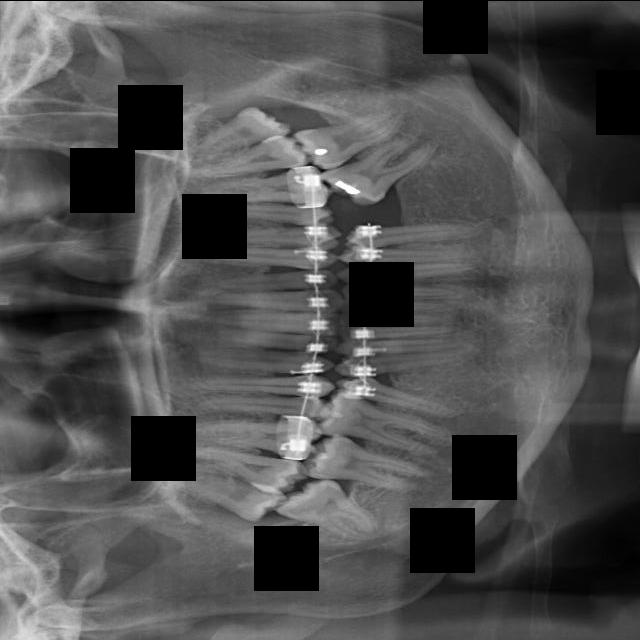3M ESPE Implant: (155, 456, 288, 530)
AGS Medikal Implant: (319, 120, 451, 220)
Amalgam filling: (173, 441, 310, 498)
Anthogyr Implant: (343, 216, 478, 248)
Bicon Implant: (340, 246, 471, 266)
BioHorizons Implant: (337, 259, 481, 284)
BioLife Implant: (339, 283, 460, 298)
Biomet 3i Implant: (341, 299, 459, 313)
Blue Sky Bio Implant: (345, 312, 453, 324)
Camlog Implant: (338, 324, 459, 340)
Caries: (214, 268, 339, 293)
Composite filling: (335, 336, 469, 356)
Cowellmedi Implant: (333, 344, 476, 379)
Crown: (332, 369, 463, 421)
DENTSPLY Implant: (311, 443, 312, 444)
Dentatus Implant: (313, 386, 454, 478)
Dentis Implant: (301, 431, 440, 496)
Dentium Implant: (273, 465, 389, 546)
Euroteknika Implant: (185, 387, 326, 423)
Filling: (185, 367, 334, 397)
Frontier Implant: (178, 342, 338, 377)
Hiossen Implant: (191, 244, 339, 269)
Implant: (212, 308, 343, 336)
Implant Direct: (213, 325, 338, 355)
Keystone Dental Implant: (212, 288, 343, 315)
MIS Implant: (200, 225, 342, 251)
Mandible: (199, 200, 335, 226)
Maxilla: (209, 189, 216, 190)
Megagen Implant: (169, 132, 312, 181)
Neodent Implant: (163, 92, 296, 179)
Neoss Implant: (392, 114, 393, 115)
